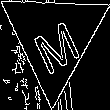M_NW: (26, 5, 82, 71)
